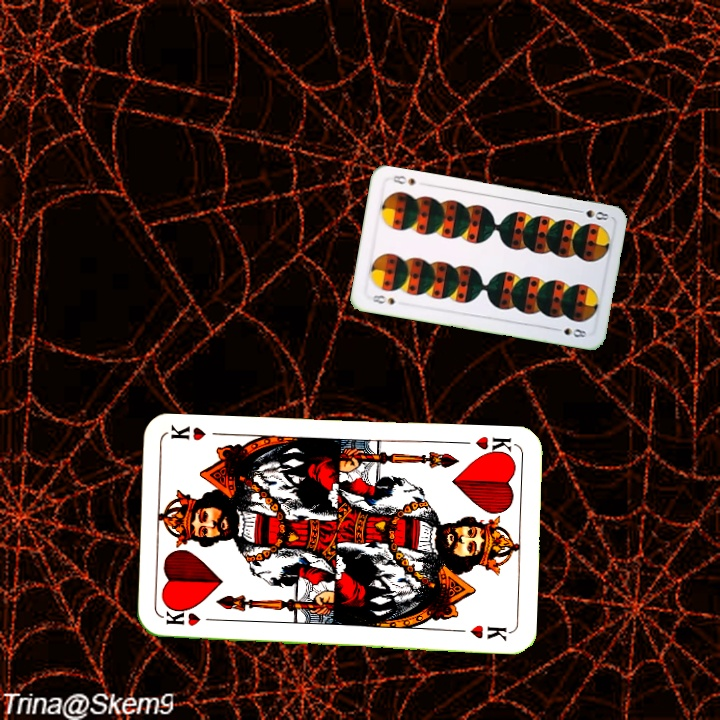HK: (161, 606, 220, 628), (472, 432, 517, 460)
S8: (571, 205, 611, 223), (365, 291, 397, 307)
